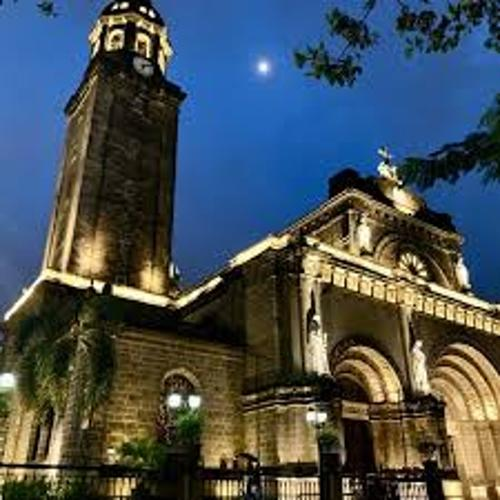Manila Cathedral Church: (12, 4, 500, 500)
